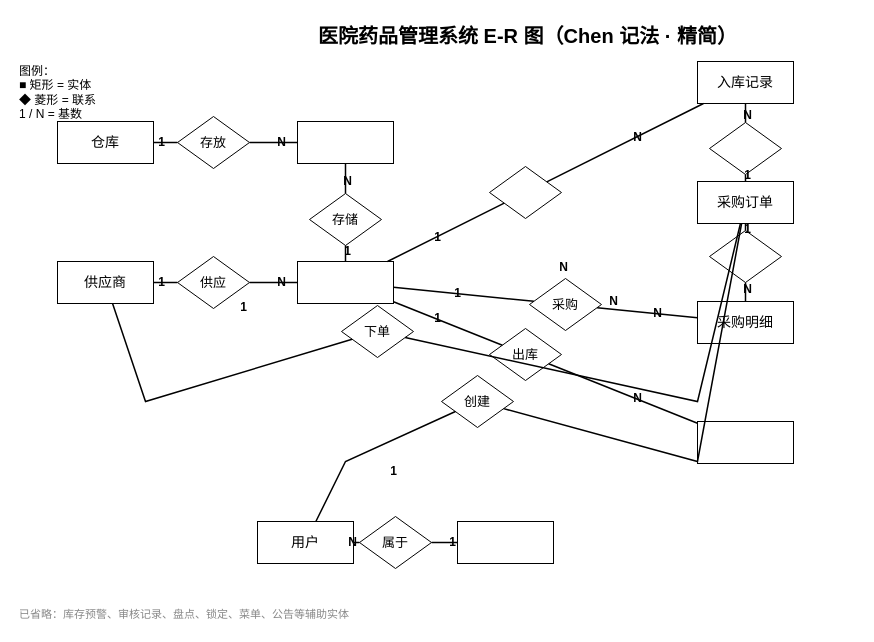
This 874x642 diagram has some shape labels left out. The shapes that lost their labels are listed below. From the top down, each one's centre as x and y in pixels, then its label:
At (x=345, y=142): "药品库存".
At (x=745, y=148): "关联".
At (x=525, y=192): "入库".
At (x=745, y=256): "包含".
At (x=345, y=282): "药品".
At (x=745, y=442): "出库记录".
At (x=505, y=542): "角色".
